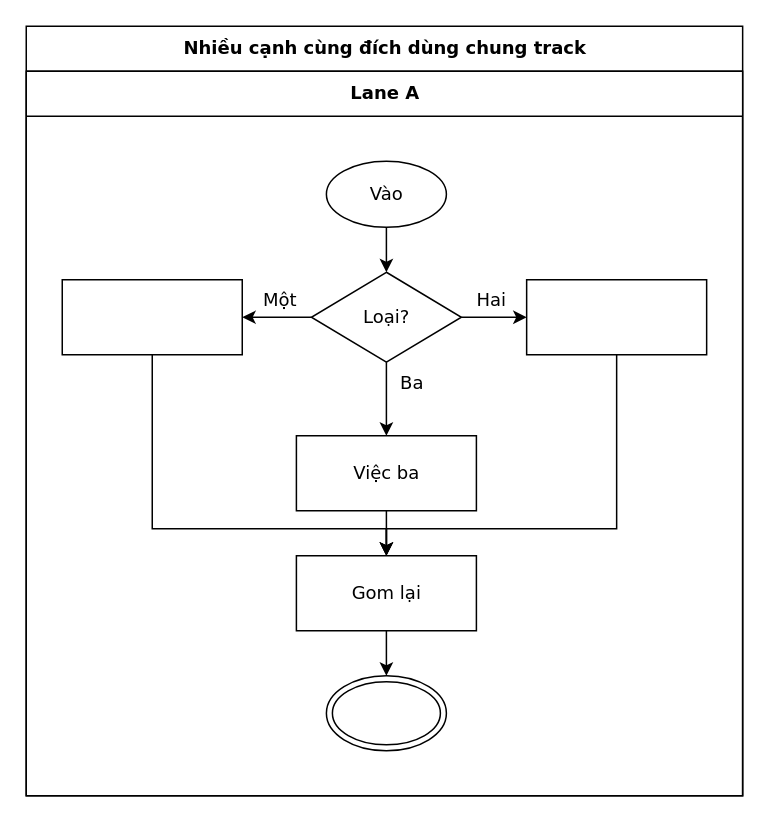
Some shapes in this 770 by 822 pixel diagram are drawn without their labels. Each missing label, with the box of its shape:
Việc hai: (525, 278, 707, 355)
Việc một: (61, 278, 242, 355)
Xong: (325, 674, 446, 751)
